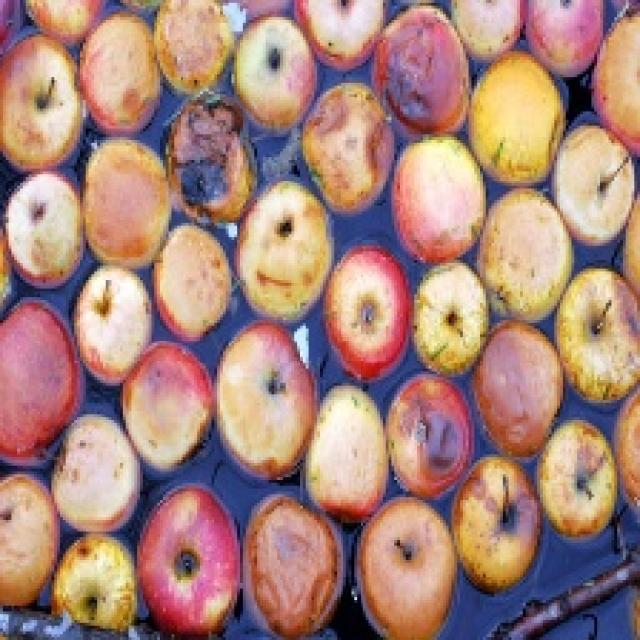rotten_apple: (250, 498, 336, 633), (367, 501, 448, 635), (382, 11, 466, 133), (482, 194, 562, 320), (125, 346, 210, 464), (307, 89, 389, 208), (560, 271, 640, 386), (171, 109, 253, 220), (486, 332, 558, 456), (88, 145, 166, 259), (396, 382, 471, 490), (159, 0, 227, 92)
